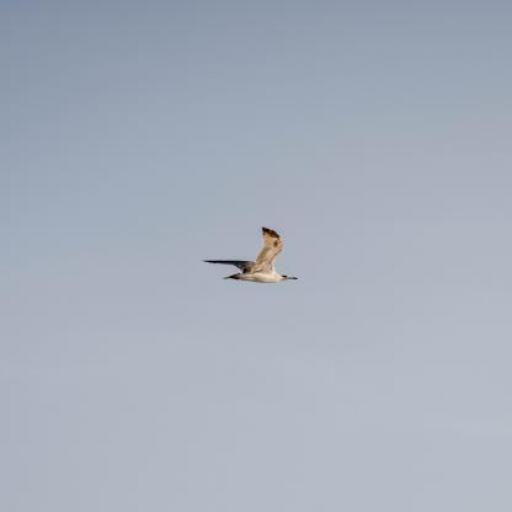bird: (204, 226, 299, 284)
